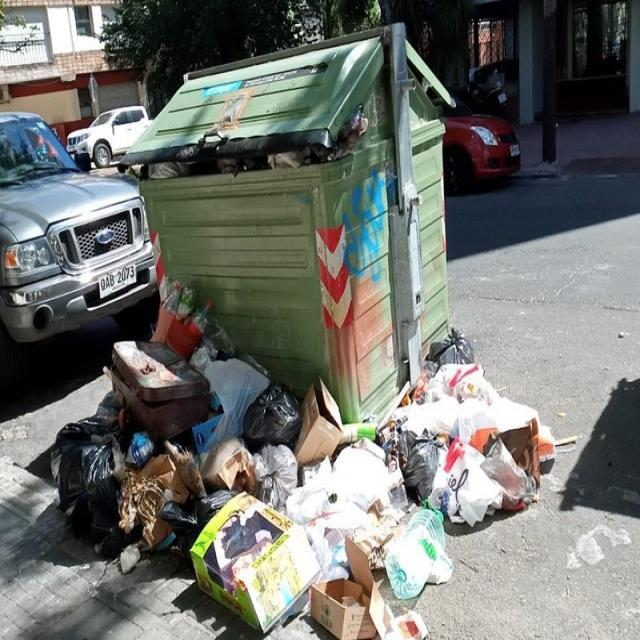high trash: (50, 336, 555, 640)
